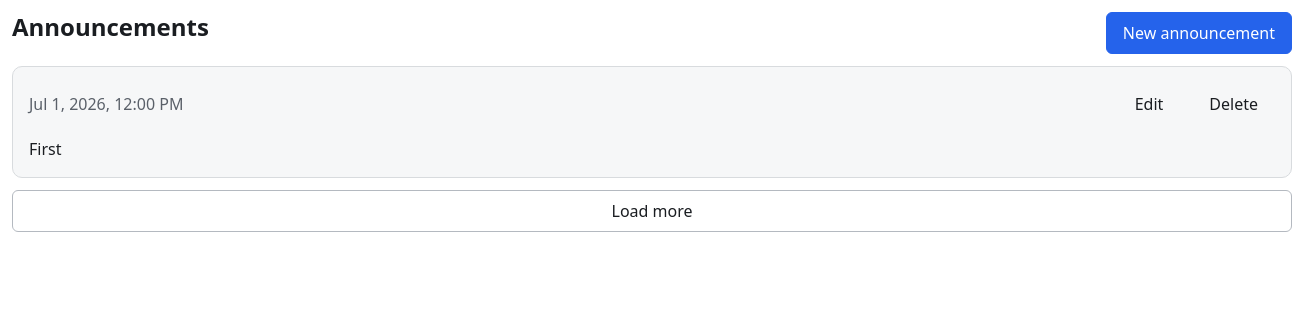
Test: AnnouncementsPage › "Load more" appends the next page without duplicating items, and disappears at the end
expect the text "First" is shown: met, box [29,138,62,160]
Step 1. Click the button "Load more" → click(652, 211), box [12,190,1292,232]
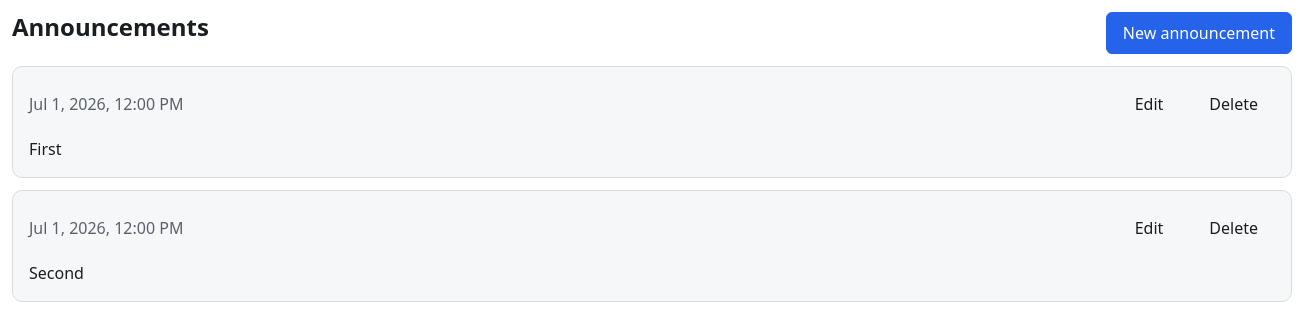
expect the text "Second" is shown: met, box [29,262,84,284]
expect the text "First" is shown once: met, box [29,138,62,160]
expect the button "Load more" is gone: met
